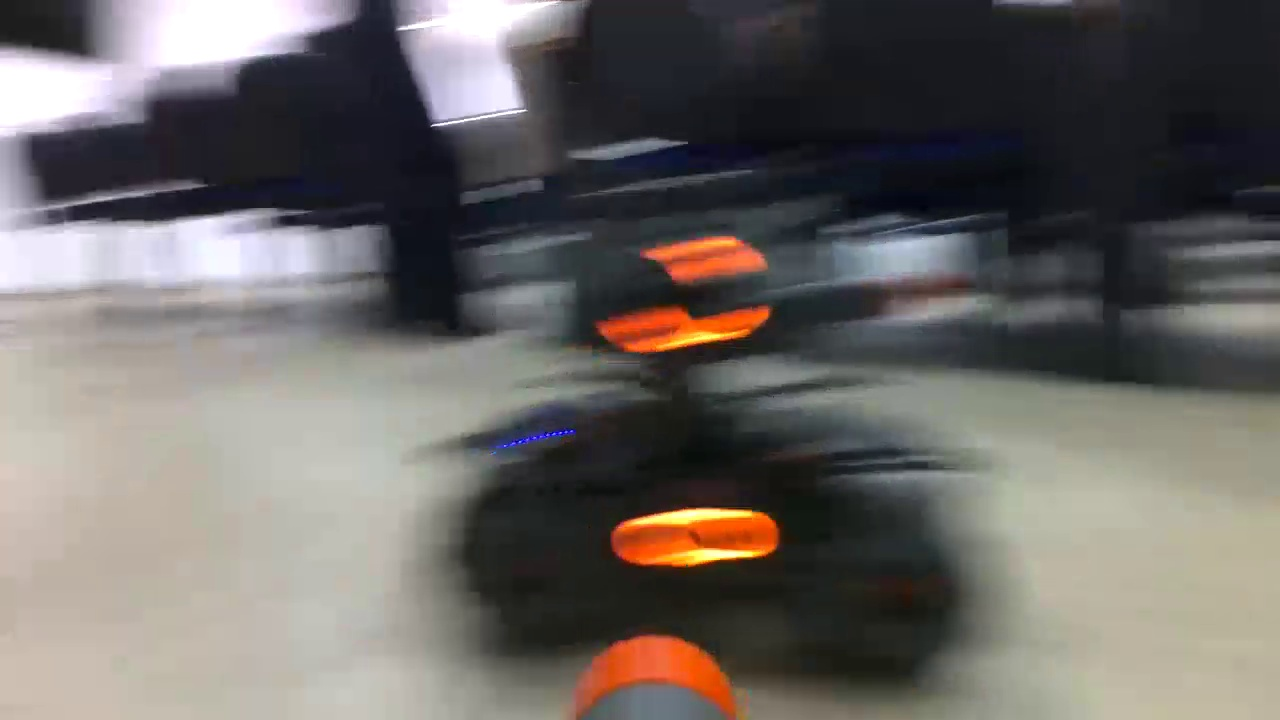robot: (463, 163, 966, 688)
